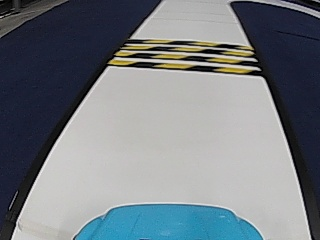bump: (127, 39, 241, 73)
